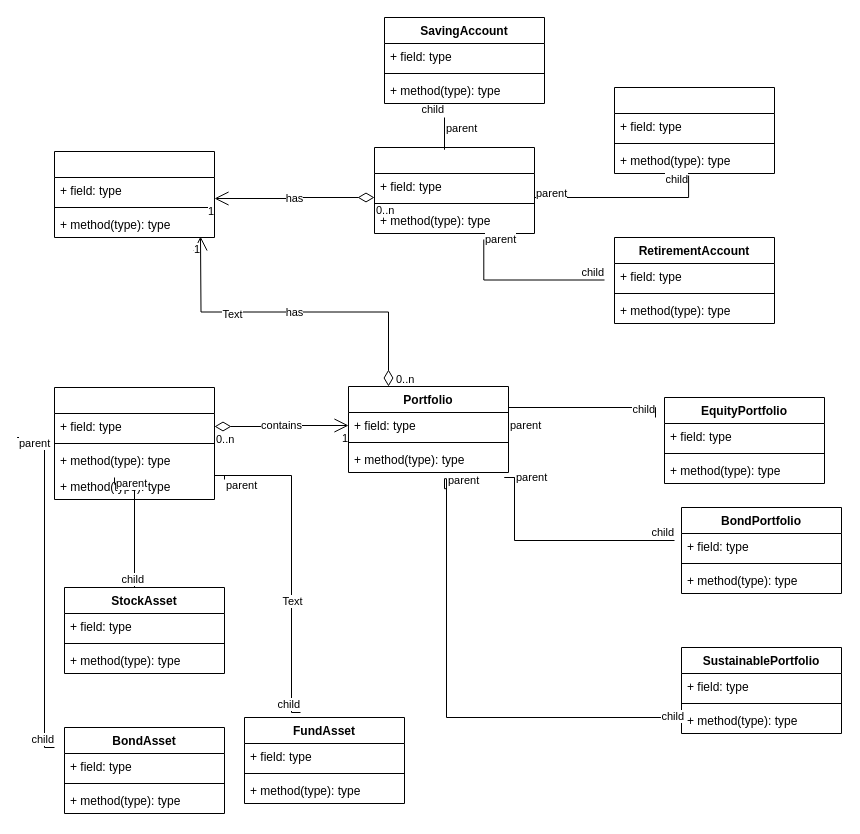
The diagram is 860 pixels wide and 834 high, and some of its shapes have lost their labels. Each missing label, with the box of its shape:
Account: (374, 146, 534, 234)
Asset: (54, 386, 214, 500)
Brokerage: (614, 86, 774, 174)
Client: (54, 150, 214, 238)
